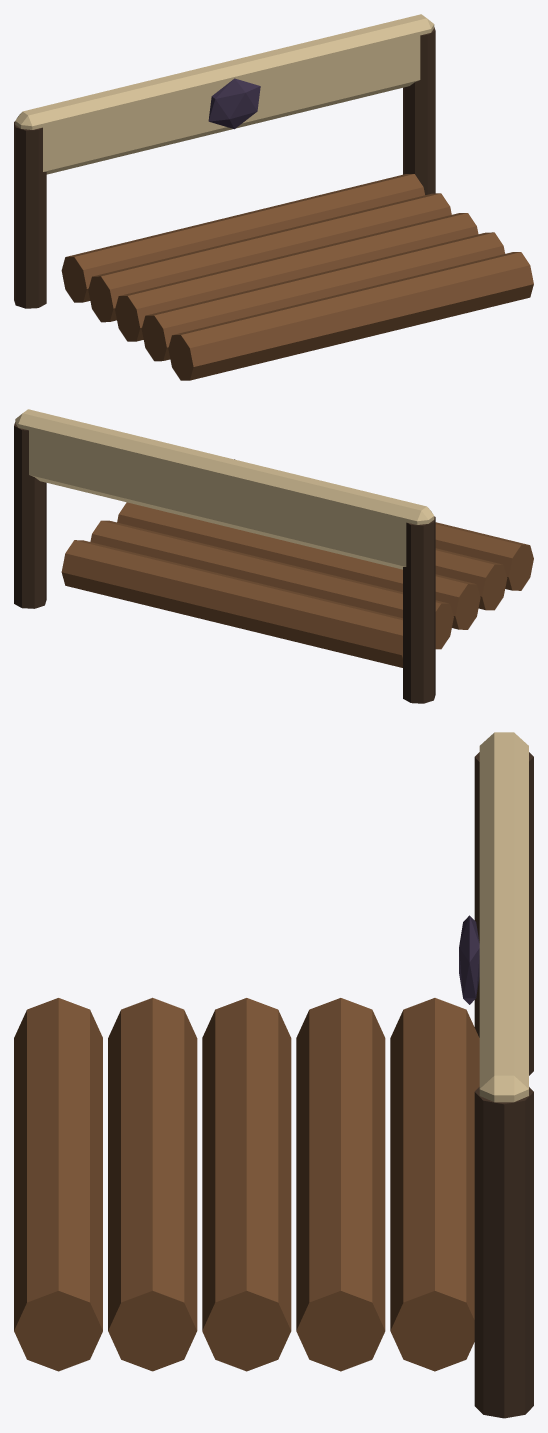
File: workshop-site.glb
3 renders of one model, top to bottom at view 1: azimuth 30°, elevation 25°; view 2: azimuth 150°, elevation 25°; view 3: azimuth 270°, elevation 25°, orthographic. The views are drawn at different scales.
Parts seen in each view (by area): view 1: WorkshopSupplies; view 2: WorkshopSupplies; view 3: WorkshopSupplies.
Part boxes in pixels (box(x1,y1,x2,y2)): WorkshopSupplies: box(14, 14, 533, 380); WorkshopSupplies: box(14, 409, 533, 703); WorkshopSupplies: box(14, 732, 533, 1418).
Size of the model in its own units: 1.72 by 0.745 by 1.05.
